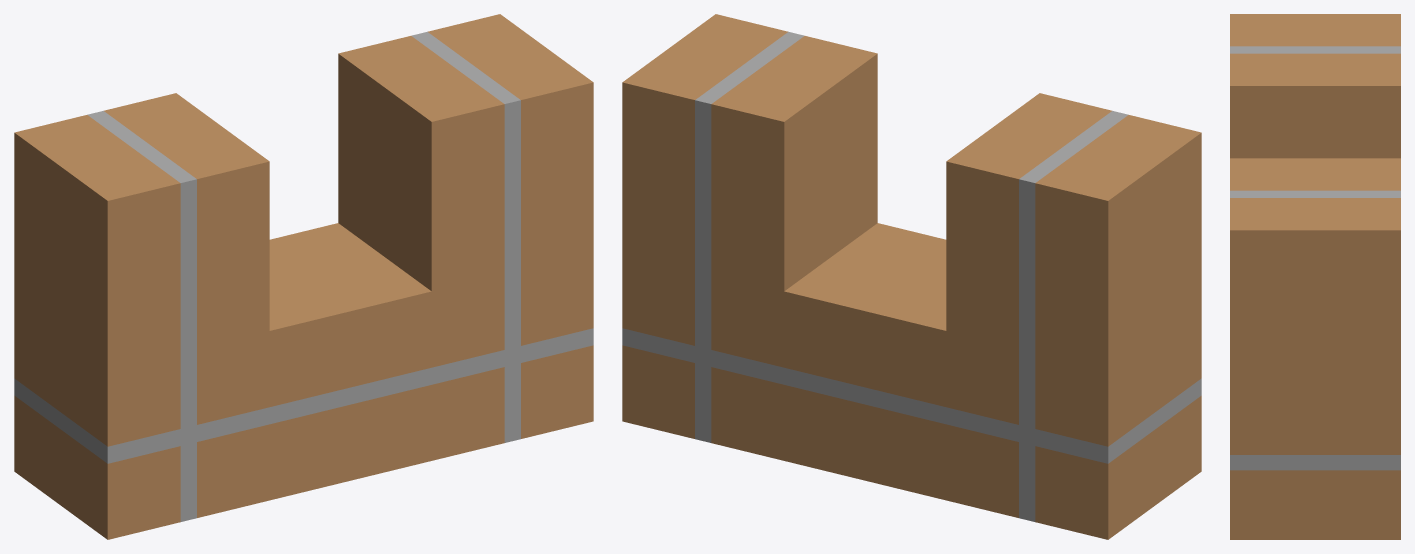
The picture shows the model from 3 angles, left to right: view 1: azimuth 30°, elevation 25°; view 2: azimuth 150°, elevation 25°; view 3: azimuth 270°, elevation 25°; orthographic projection. The views are drawn at different scales.
Parts seen in each view (by area): view 1: U Box; view 2: U Box; view 3: U Box.
Part boxes in pixels (x1,y1,x2,y2): U Box: [14, 14, 593, 539]; U Box: [622, 14, 1201, 539]; U Box: [1230, 14, 1400, 539].
Size of the model in its own units: 3 by 2 by 1.
